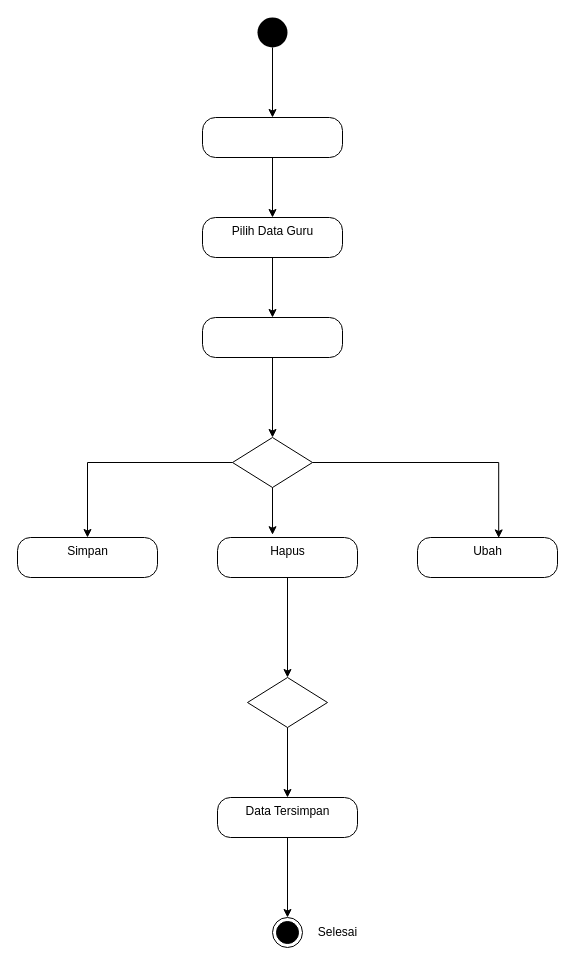
The diagram is 575 pixels wide and 965 high, and some of its shapes have lost their labels. Each missing label, with the box of its shape:
Masuk ke menu utama: (202, 116, 342, 158)
Menampilkan Data Guru: (202, 316, 342, 358)
